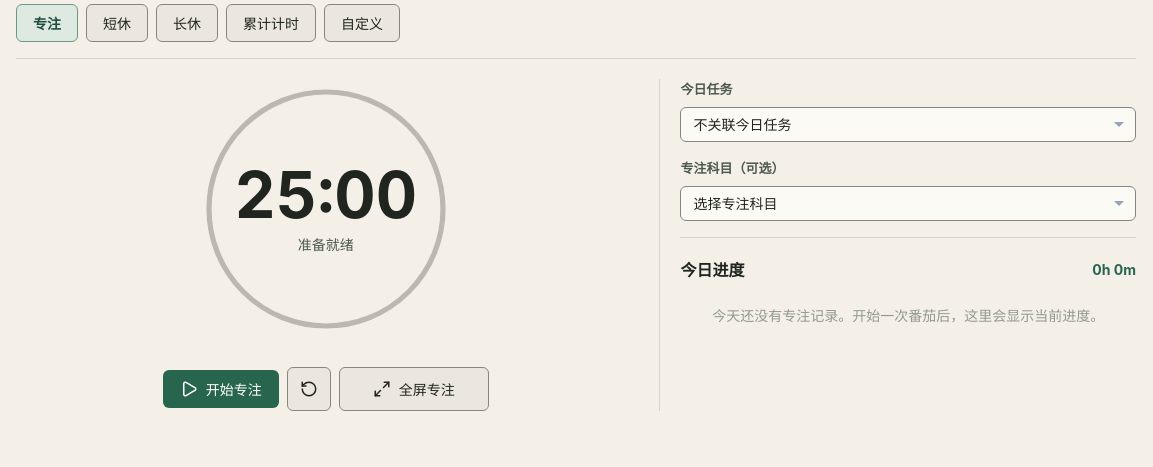
Test: Pomodoro Component › keeps custom feedback accurate through start, pause, resume and reset
Click the button with test id "pomodoro-mode-custom" at (362, 23), box [324, 4, 400, 42]
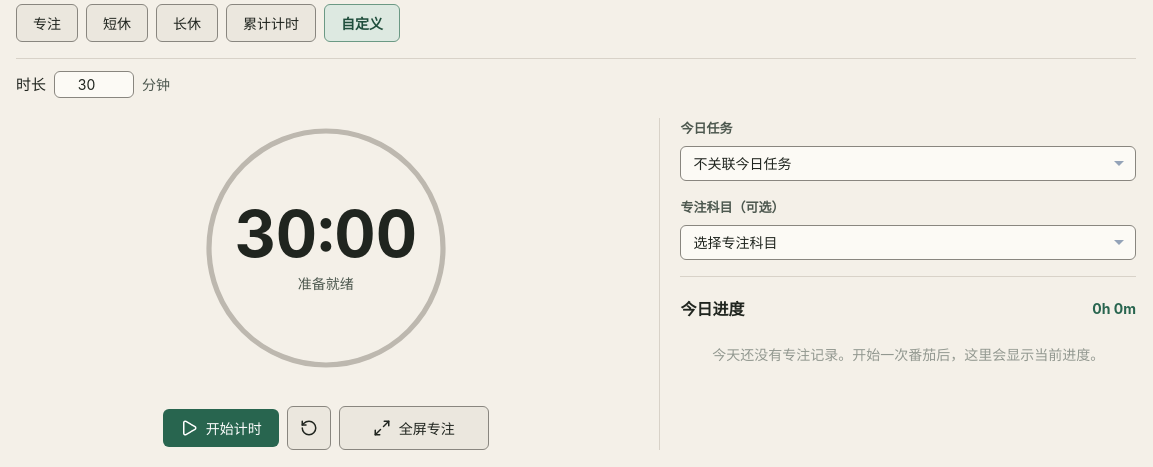
Expected: the text "准备就绪" is shown, [298, 274, 354, 294]
Now the button with test id "pomodoro-start-btn" reads "开始计时"
Click the button with test id "pomodoro-start-btn" at (221, 428), box [163, 409, 279, 447]
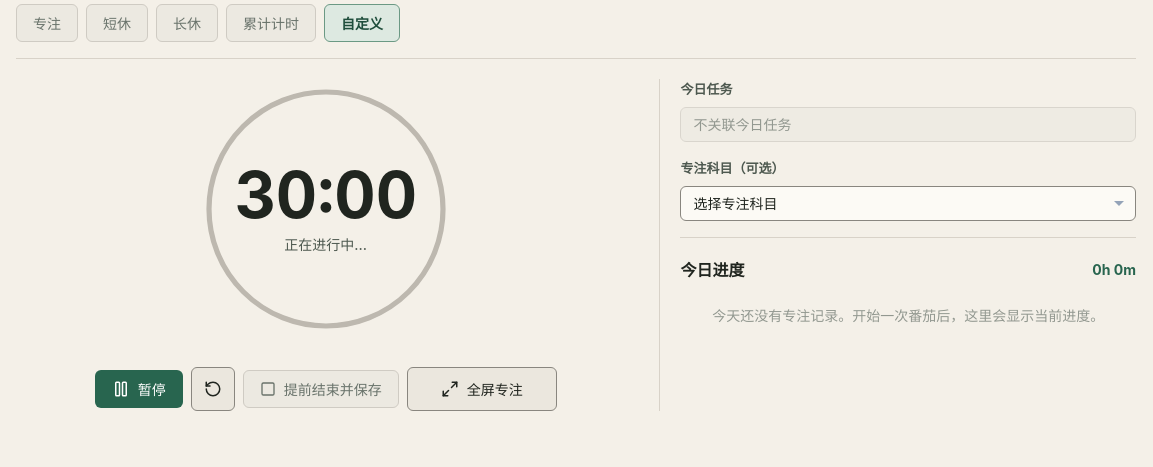
Now the text "正在进行中..." is shown, box [284, 235, 367, 255]
Now the button with test id "pomodoro-start-btn" reads "暂停"
Click the button with test id "pomodoro-start-btn" at (139, 389), box [95, 370, 183, 408]
Wait 1000 ms
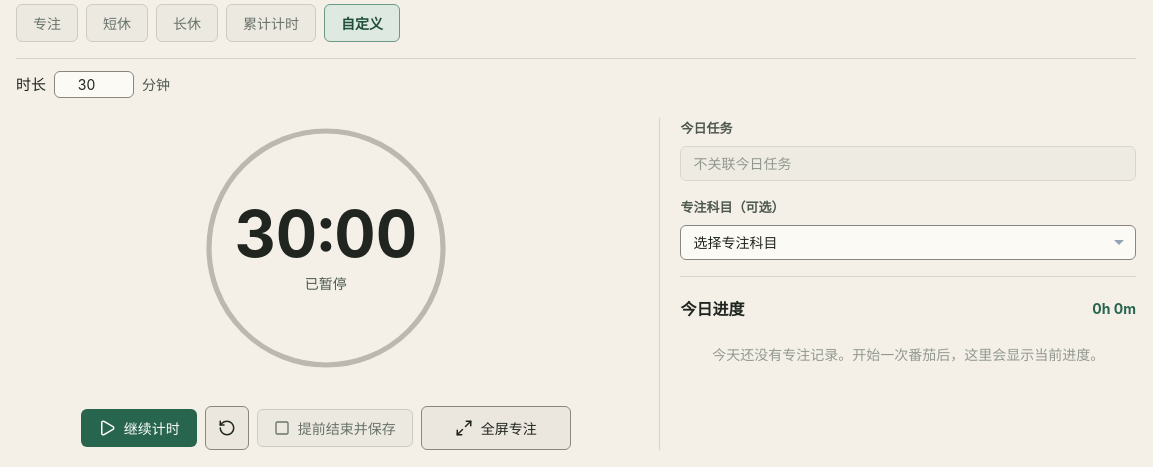
Now the text "30:00" is shown, box [234, 202, 417, 266]
Now the text "已暂停" is shown, box [305, 274, 347, 294]
Now the button with test id "pomodoro-start-btn" reads "继续计时"
Click the button with test id "pomodoro-start-btn" at (139, 428), box [81, 409, 197, 447]
Wait 1000 ms
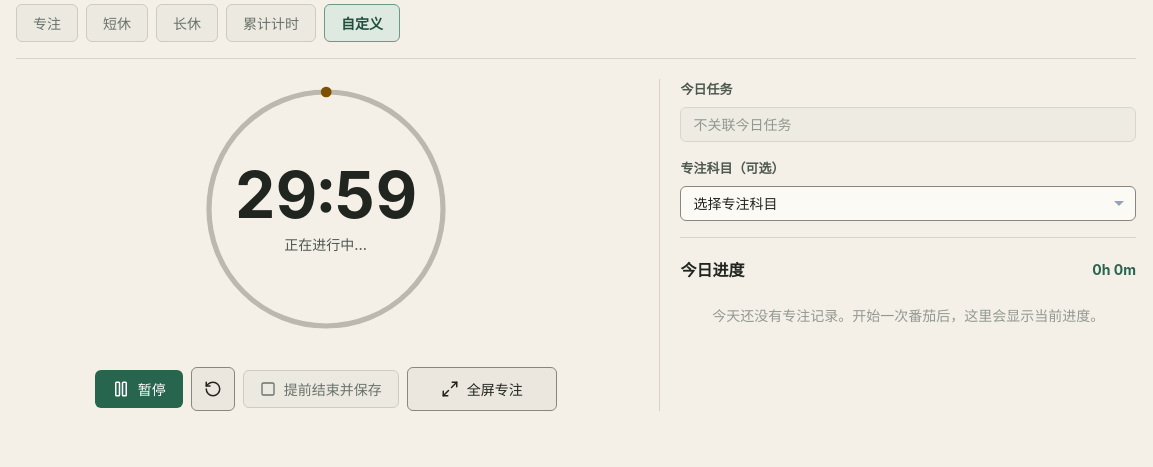
Now the text "正在进行中..." is shown, box [284, 235, 367, 255]
Now the text "30:00" is gone
Click the button with test id "pomodoro-reset-btn" at (213, 389), box [191, 367, 235, 411]
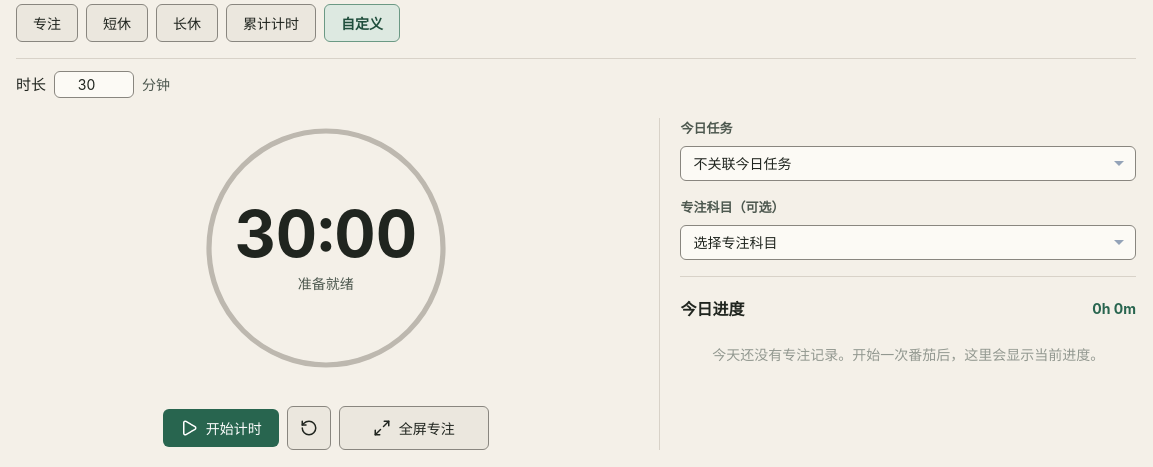
Now the text "准备就绪" is shown, box [298, 274, 354, 294]
Now the button with test id "pomodoro-start-btn" reads "开始计时", box [163, 409, 279, 447]
Now the text "30:00" is shown, box [234, 202, 417, 266]
